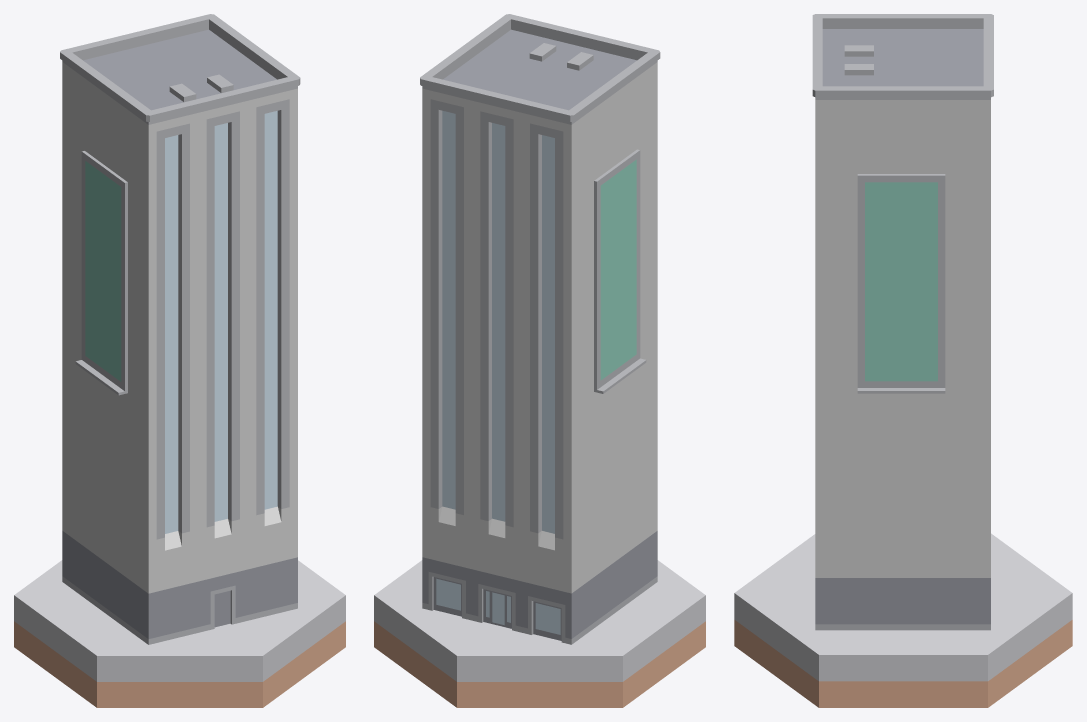
The model's file is skyscraper_3_high.fbx.
The picture shows the model from 3 angles, left to right: view 1: azimuth 30°, elevation 25°; view 2: azimuth 150°, elevation 25°; view 3: azimuth 270°, elevation 25°; orthographic projection.
Visible parts, largest first — view 1: skyscraperF, pavement_high.005, sign_billboard.001; view 2: skyscraperF, pavement_high.005, sign_billboard.001; view 3: skyscraperF, pavement_high.005, sign_billboard.002.
Boxes of the visible parts, x1,y1,x2,y2 form: skyscraperF: (60,14,300,644); pavement_high.005: (14,560,345,707); sign_billboard.001: (75,151,127,395); skyscraperF: (420,14,660,644); pavement_high.005: (374,560,705,707); sign_billboard.001: (594,149,646,393); skyscraperF: (812,14,993,630); pavement_high.005: (734,533,1072,707); sign_billboard.002: (857,174,945,393).
Size of the model in its own units: 100 by 224 by 115.
